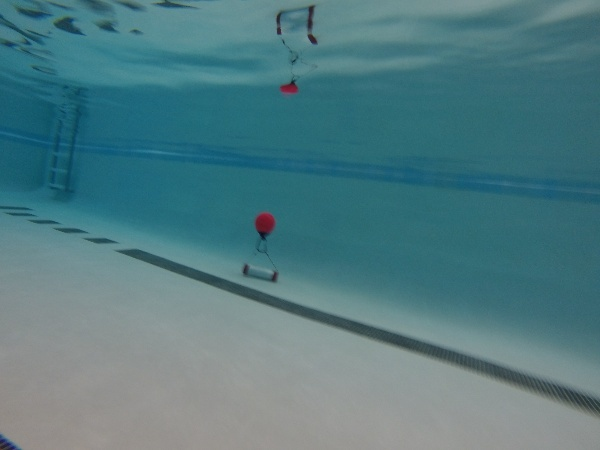buoy_red: (253, 209, 275, 241)
